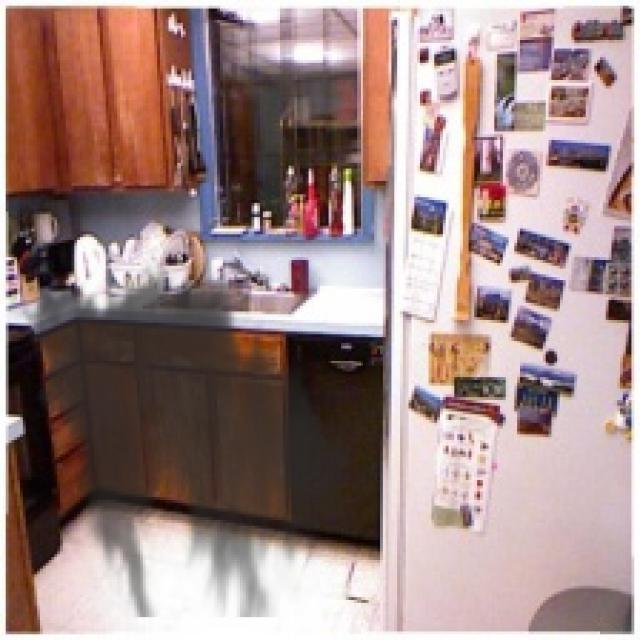Smoke: (11, 254, 363, 617)
